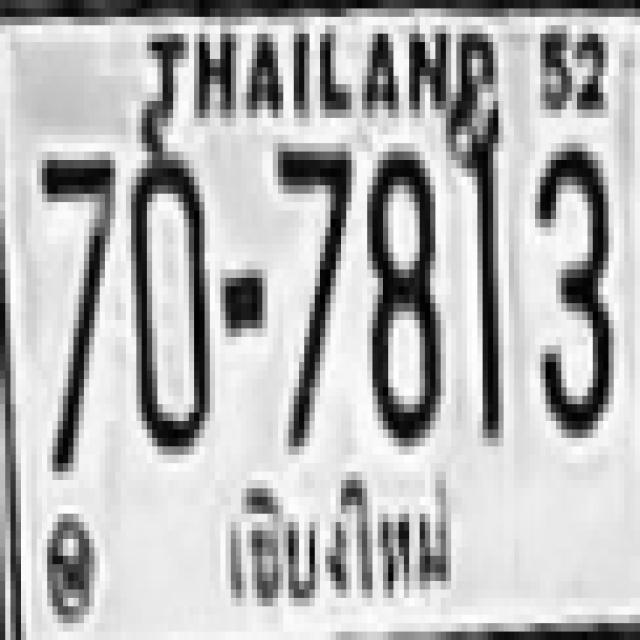0: (126, 143, 204, 446)
3: (530, 135, 608, 429)
7: (37, 152, 110, 463), (275, 139, 349, 442), (37, 152, 110, 430), (37, 152, 110, 354)
8: (368, 143, 436, 438)
ChiangMai: (212, 462, 464, 612)
